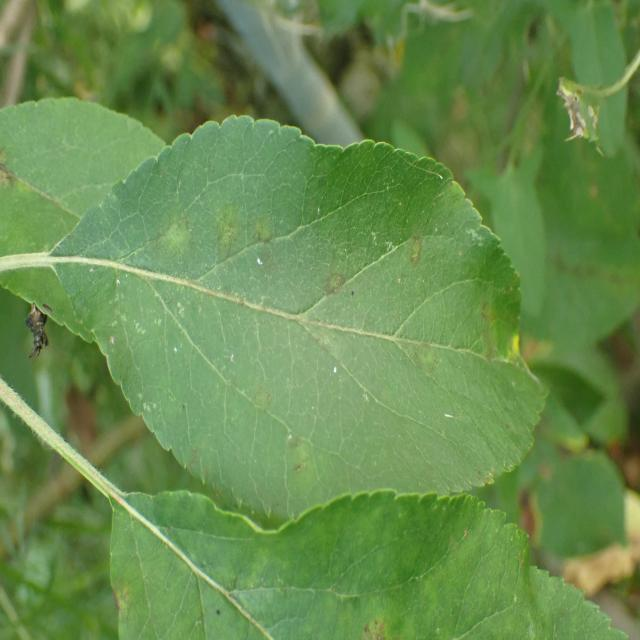scab: (58, 151, 531, 507)
